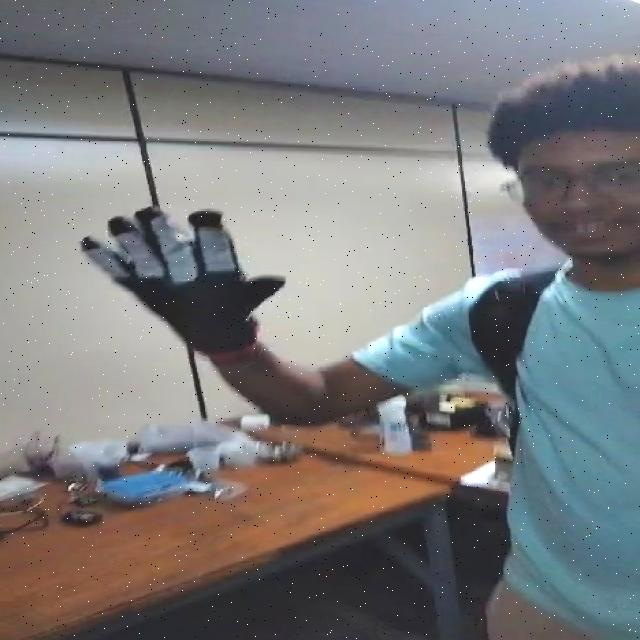Gloves: (79, 206, 281, 356)
